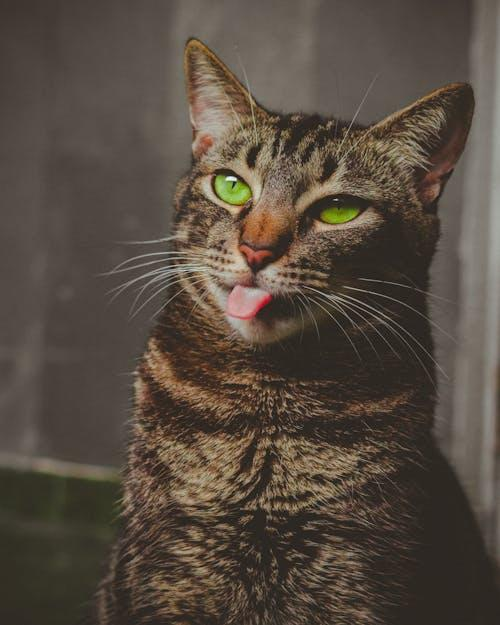kedo: (98, 39, 500, 624)
